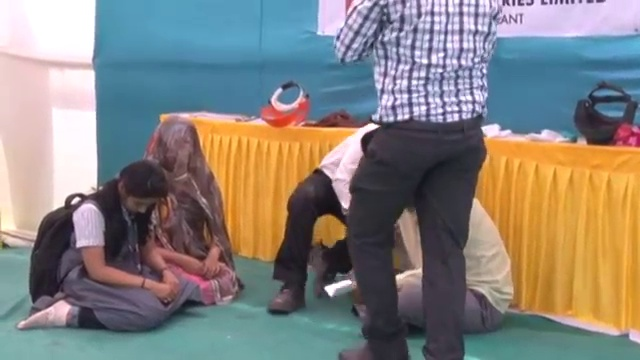helmet_off: (151, 118, 204, 187), (107, 161, 169, 218)
person: (333, 2, 496, 360), (19, 161, 198, 337), (267, 122, 382, 313), (133, 109, 238, 305), (394, 189, 516, 336)
